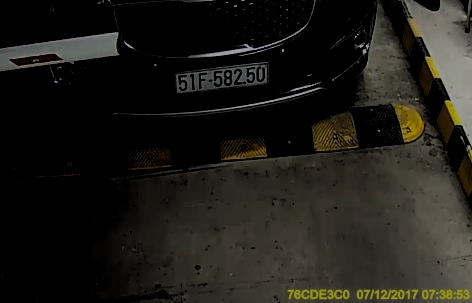plate: (172, 62, 274, 93)
